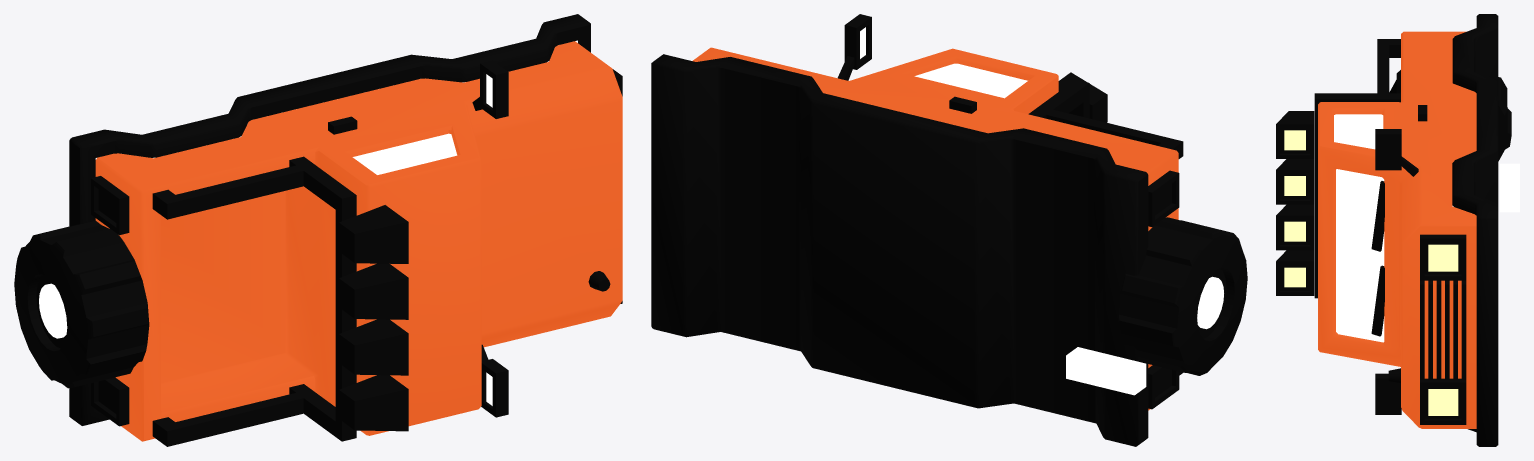
File: Pickup.glb
3 renders of one model, left to right at view 1: azimuth 30°, elevation 25°; view 2: azimuth 150°, elevation 25°; view 3: azimuth 270°, elevation 25°, orthographic. The views are drawn at different scales.
Parts seen in each view (by area): view 1: shadeRed_002, shadeBlack_019, shadeBlack_022, shadeBlack_009, shadeBlack_010, shadeBlack_013, shadeBlack_014, shadeBlack_015, shadeWhite.001, shadeBlack_020, shadeBlack_021, shadeBlack_011 (+2 smaller); view 2: shadeBlack_022, shadeBlack_019, shadeRed_002, shadeBlack_009, shadeWhite_009, shadeWhite.001, shadeBlack_020, shadeBlack_011, shadeBlack_021, shadeWhite_007, shadeBlack_010; view 3: shadeRed_002, shadeBlack_022, shadeWhite.001, shadeBlack_008, shadeBlack_009, shadeBlack_002, shadeBlack_007, shadeBlack_010, shadeBlack_014, shadeBlack_015, shadeBlack_013, shadeBlack_011 (+11 smaller).
Part boxes in pixels (x1,y1,x2,y2): shadeRed_002: (95, 41, 622, 441); shadeBlack_019: (14, 220, 149, 388); shadeBlack_022: (69, 14, 590, 425); shadeBlack_009: (152, 156, 356, 446); shadeBlack_010: (339, 205, 408, 263); shadeBlack_013: (339, 263, 408, 319); shadeBlack_014: (339, 319, 408, 375); shadeBlack_015: (339, 375, 408, 431); shadeWhite.001: (352, 133, 457, 174); shadeBlack_020: (91, 176, 129, 235); shadeBlack_021: (91, 377, 129, 426); shadeBlack_011: (472, 60, 508, 118); shadeBlack_022: (651, 54, 1148, 446); shadeBlack_019: (1119, 217, 1247, 375); shadeRed_002: (692, 47, 1178, 410); shadeBlack_009: (1028, 79, 1183, 375); shadeWhite_009: (1066, 347, 1146, 395); shadeWhite.001: (914, 63, 1027, 98); shadeBlack_020: (1148, 170, 1179, 226); shadeBlack_011: (837, 14, 871, 80); shadeBlack_021: (1148, 365, 1179, 409); shadeWhite_007: (1197, 276, 1223, 329); shadeBlack_010: (1058, 72, 1107, 122); shadeRed_002: (1318, 31, 1476, 428); shadeBlack_022: (1452, 14, 1498, 446); shadeWhite.001: (1334, 114, 1384, 342); shadeBlack_008: (1420, 280, 1466, 379); shadeBlack_009: (1314, 39, 1400, 298); shadeBlack_002: (1420, 234, 1466, 280); shadeBlack_007: (1420, 378, 1466, 424); shadeBlack_010: (1276, 111, 1314, 158); shadeBlack_014: (1276, 204, 1314, 250); shadeBlack_015: (1276, 250, 1314, 295); shadeBlack_013: (1276, 159, 1314, 204); shadeBlack_011: (1375, 129, 1418, 176).
Bounding box in the file's own units: 2.03 × 1.18 × 0.9279.
